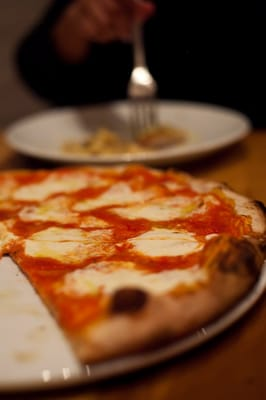salad: (126, 8, 159, 99)
